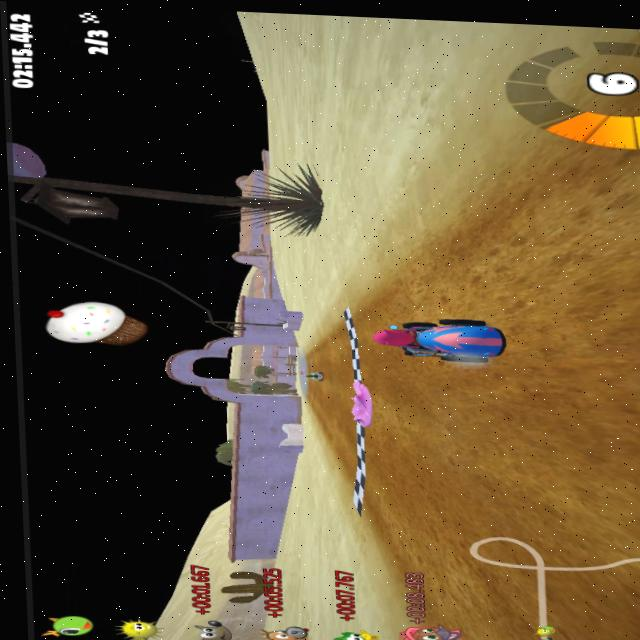enemy_kart: (298, 370, 328, 381)
obstacle: (345, 377, 385, 427)
player_kart: (371, 312, 502, 366)
track: (508, 166, 640, 526), (368, 364, 520, 550), (423, 520, 640, 640), (379, 225, 508, 315), (320, 334, 342, 400), (333, 423, 349, 469), (275, 355, 301, 382), (290, 385, 319, 404), (320, 404, 335, 429), (301, 343, 316, 368)
